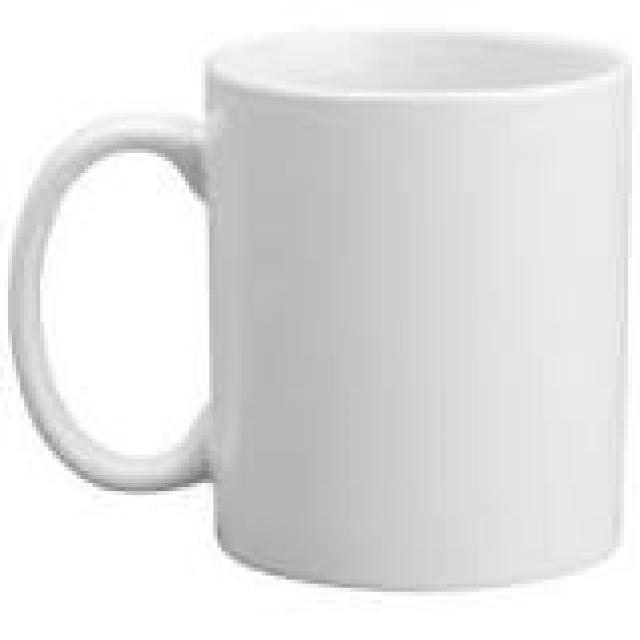Coffee Mug: (10, 30, 634, 587)
